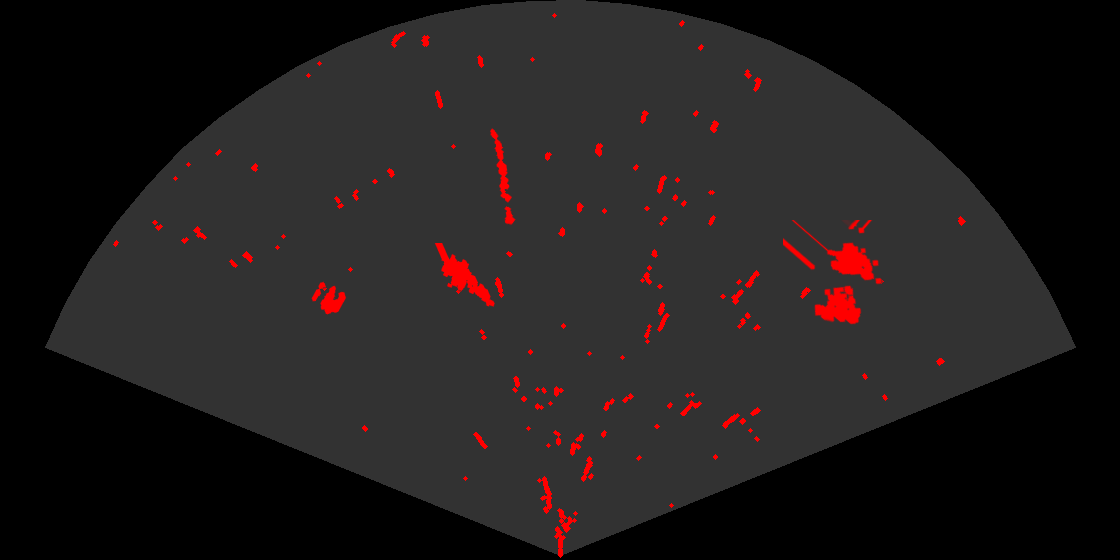ball: (310, 280, 348, 316)
cage: (783, 220, 884, 326)
chain: (489, 127, 517, 227)
frogman: (433, 243, 496, 308)
